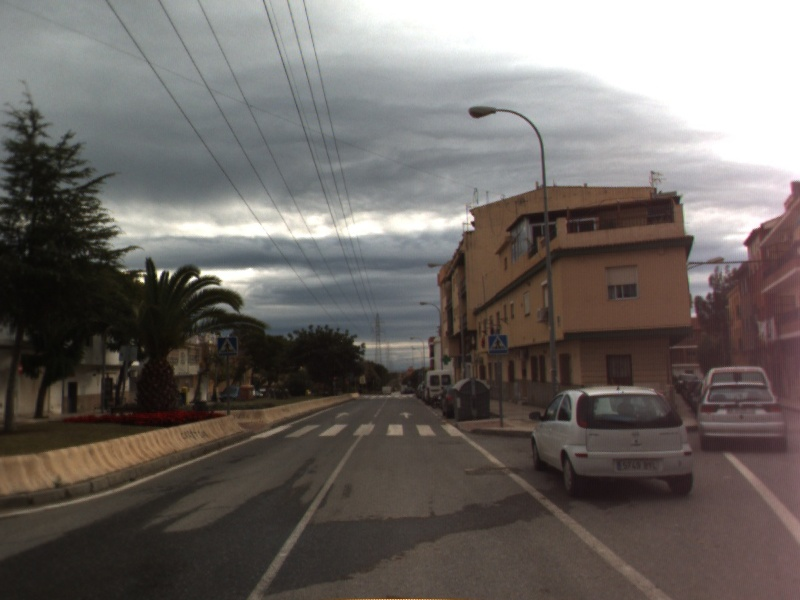STRAIGHT: (332, 410, 353, 421), (397, 409, 415, 420)
